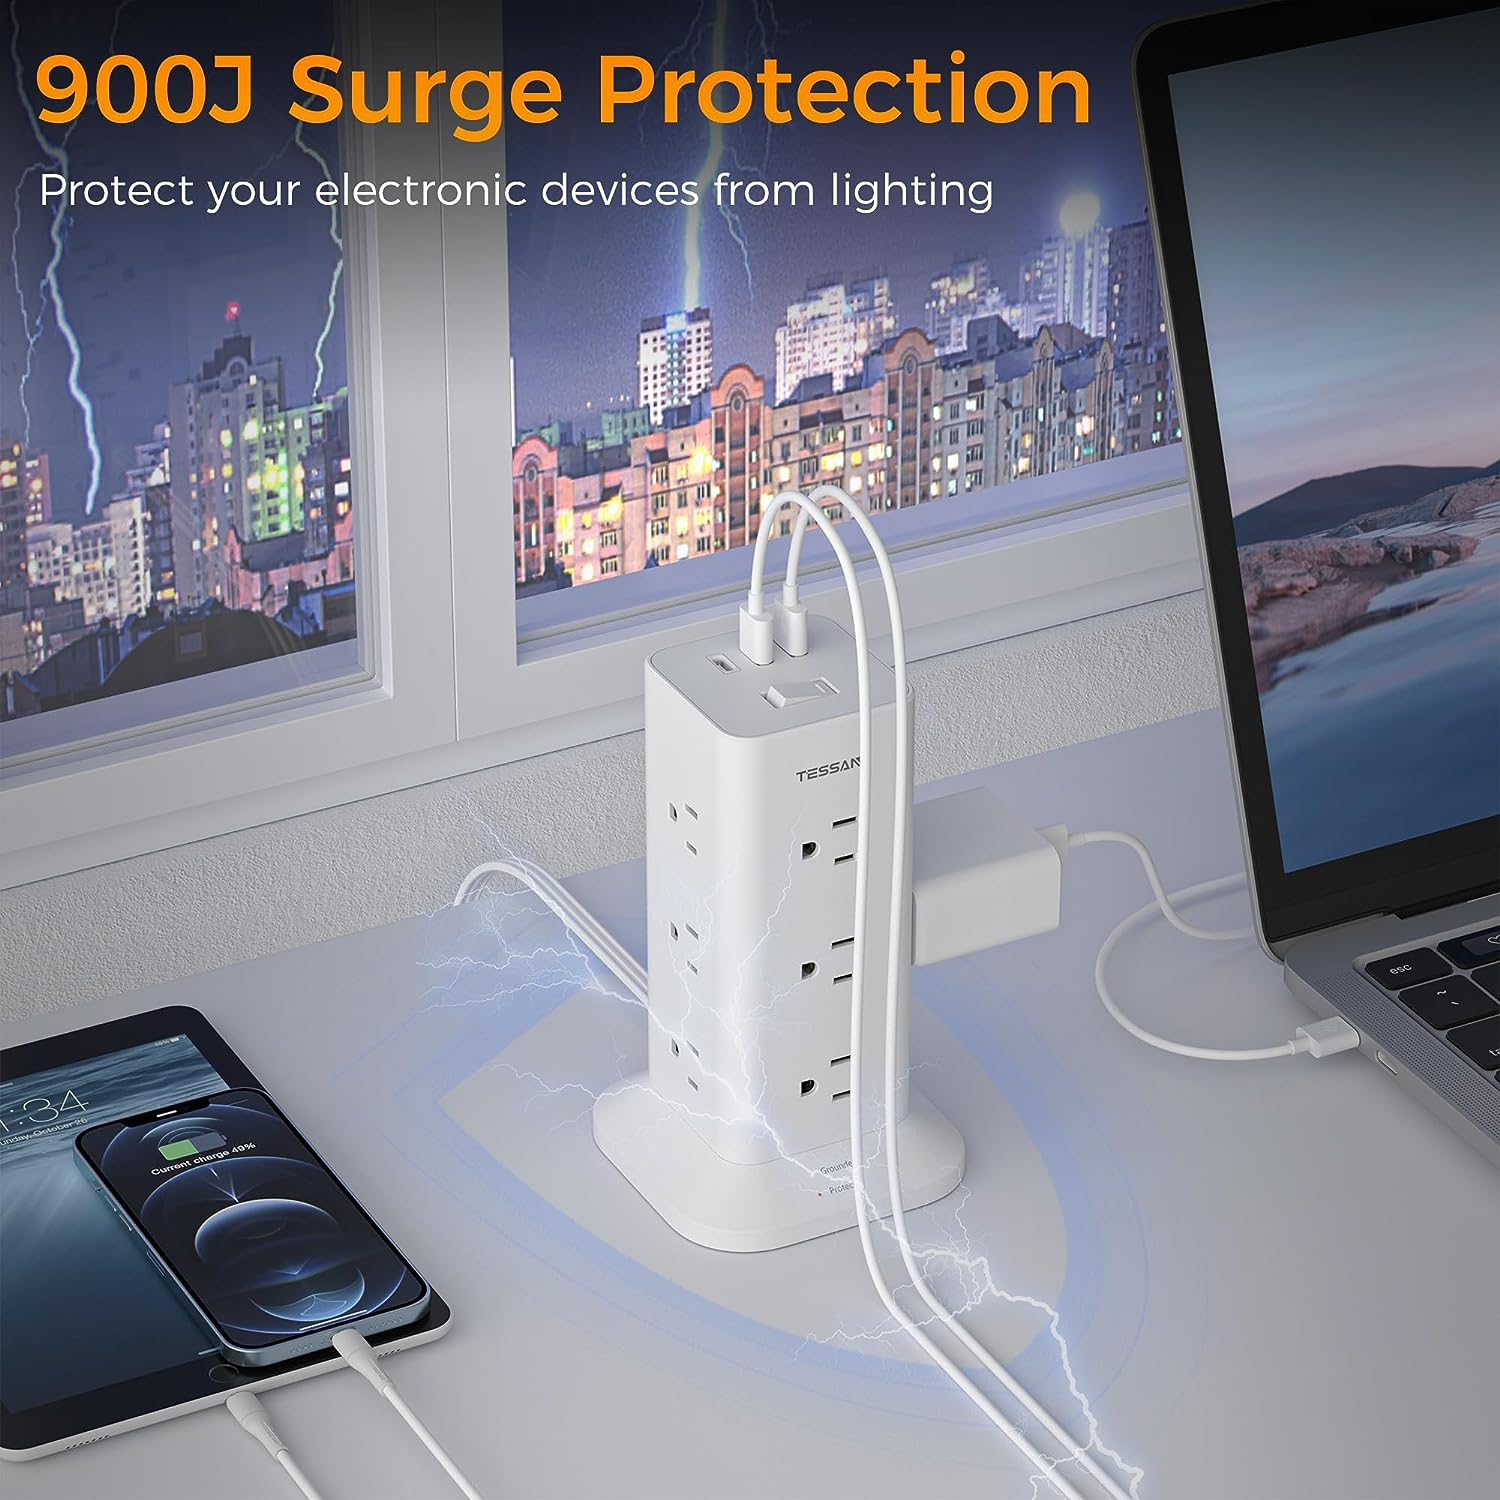socket: (582, 584, 966, 1258)
